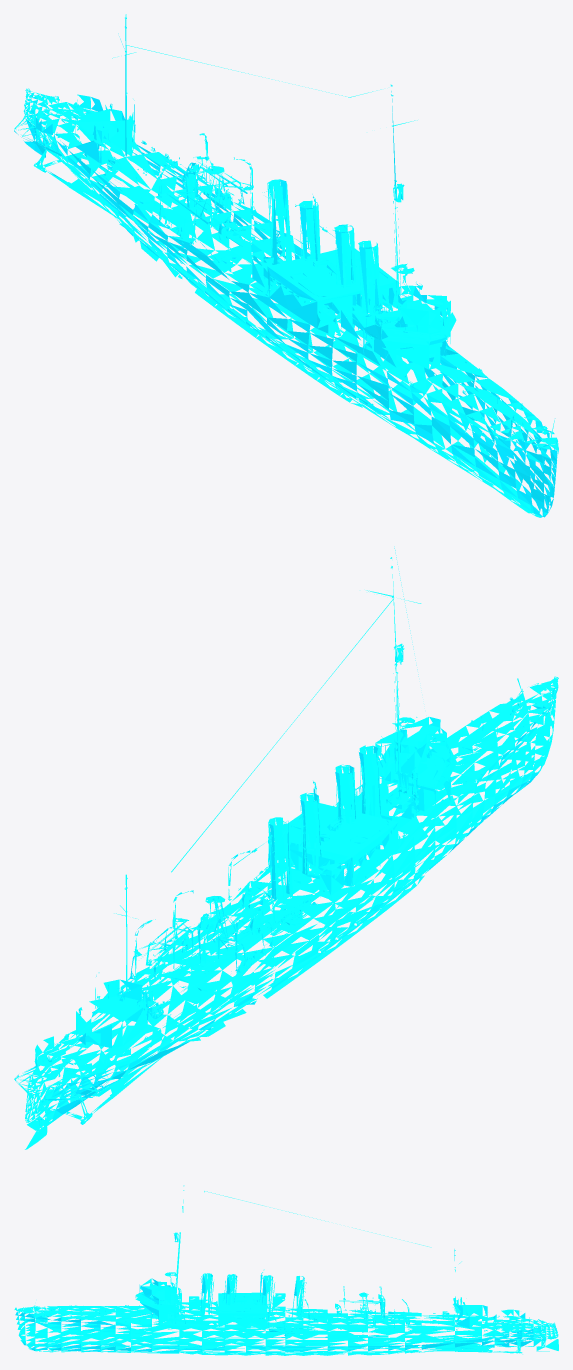
3 views of the same model, one above another, from view 1: azimuth 30°, elevation 25°; view 2: azimuth 150°, elevation 25°; view 3: azimuth 270°, elevation 25° (orthographic). The views are drawn at different scales.
Size of the model in its own units: 0.6402 by 2.24 by 6.39.
